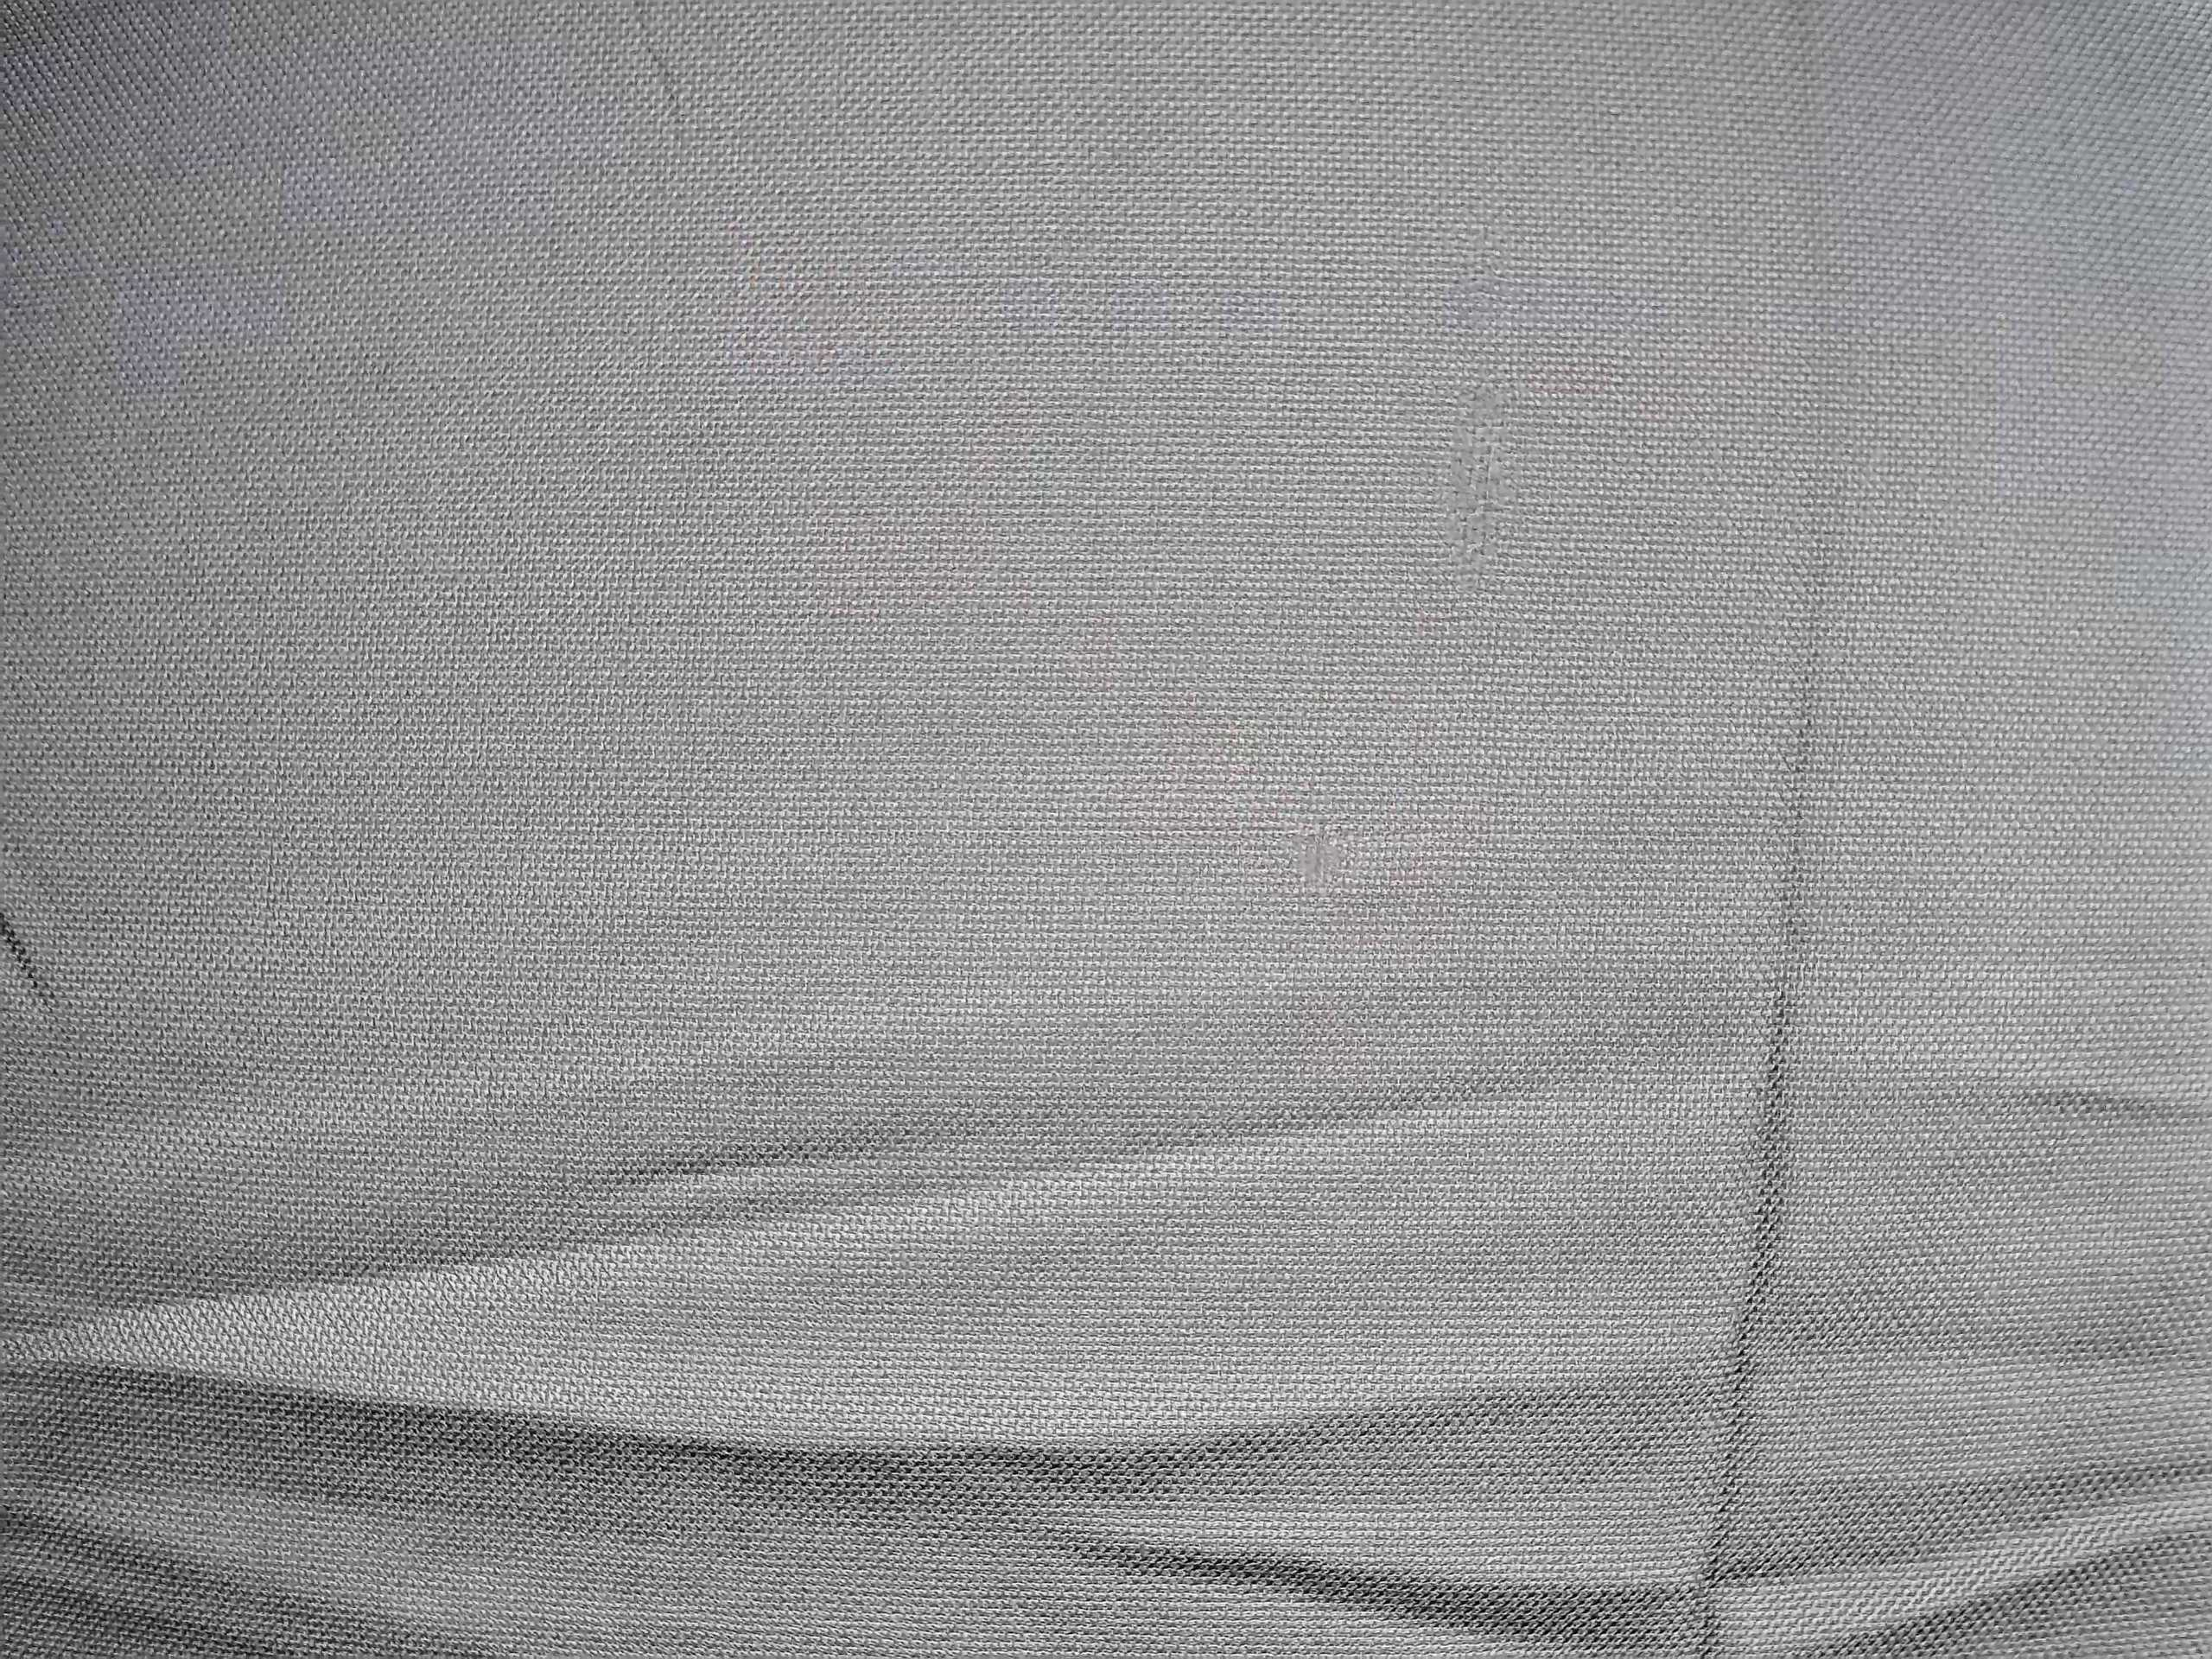brushed-hole: (1418, 342, 1550, 591), (1277, 809, 1378, 903)
